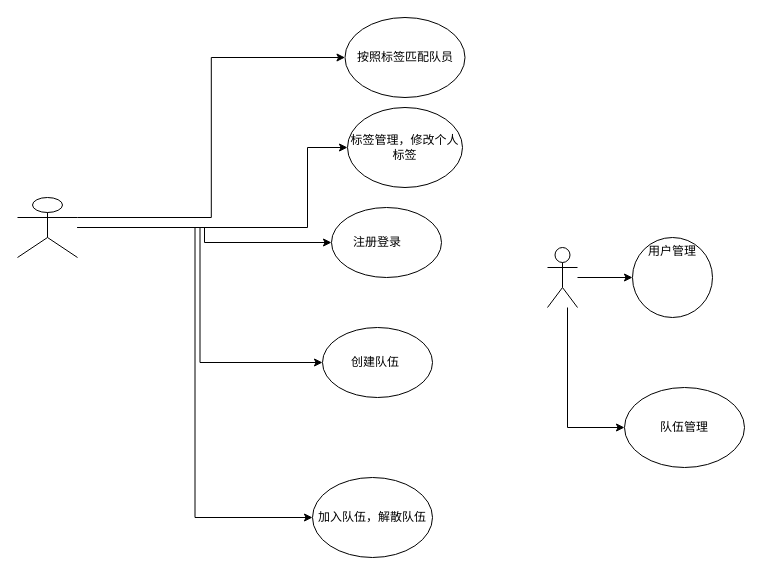
Some shapes in this 762 by 575 pixel diagram are drawn without their labels. The centre of each missing label's shape, as x and y in pixels:
"用户" goes at [47,227].
"系统员" goes at [562,277].
